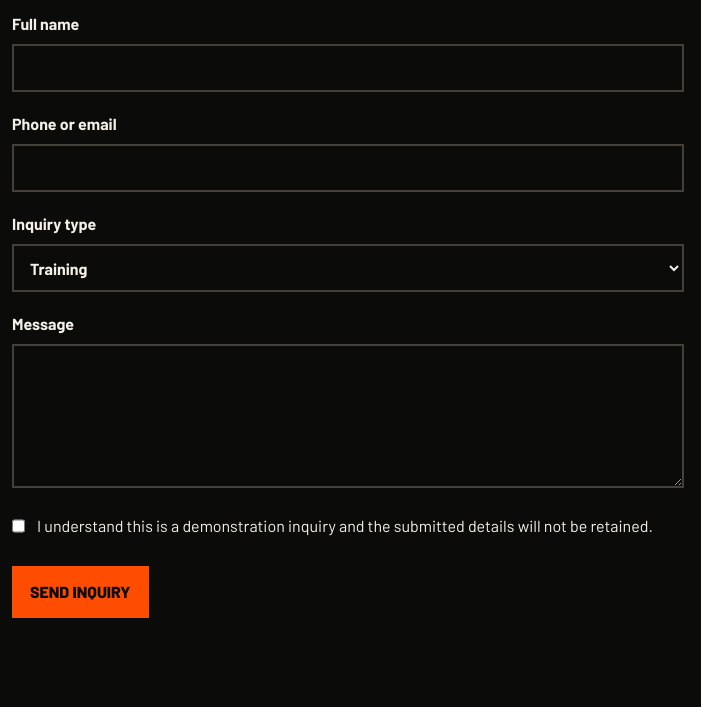
Test: form states › shows contact validation errors
The width and height of the screenshot is (701, 707).
Click the button "Send inquiry". click: (80, 592)
box: [12,566,148,618]
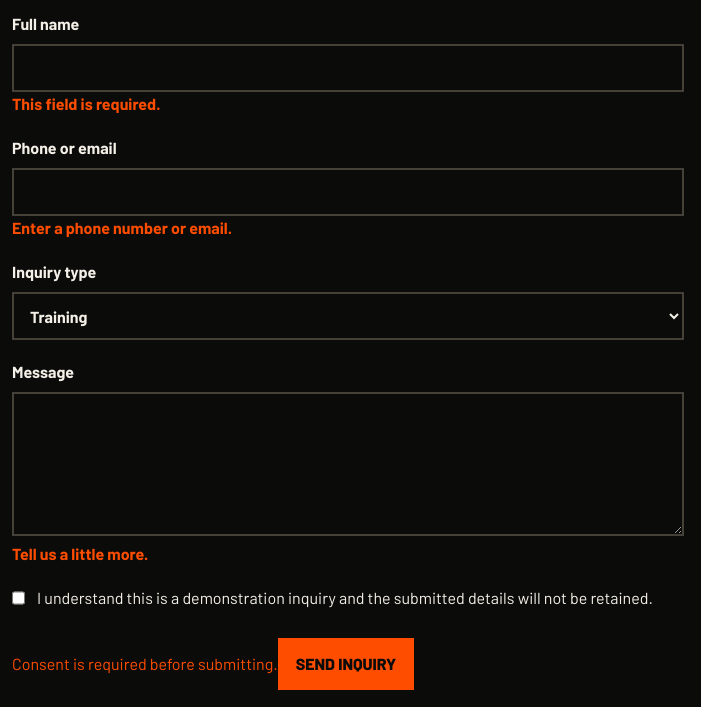
Expected: the text "This field is required." is shown, [12,94,160,113]
